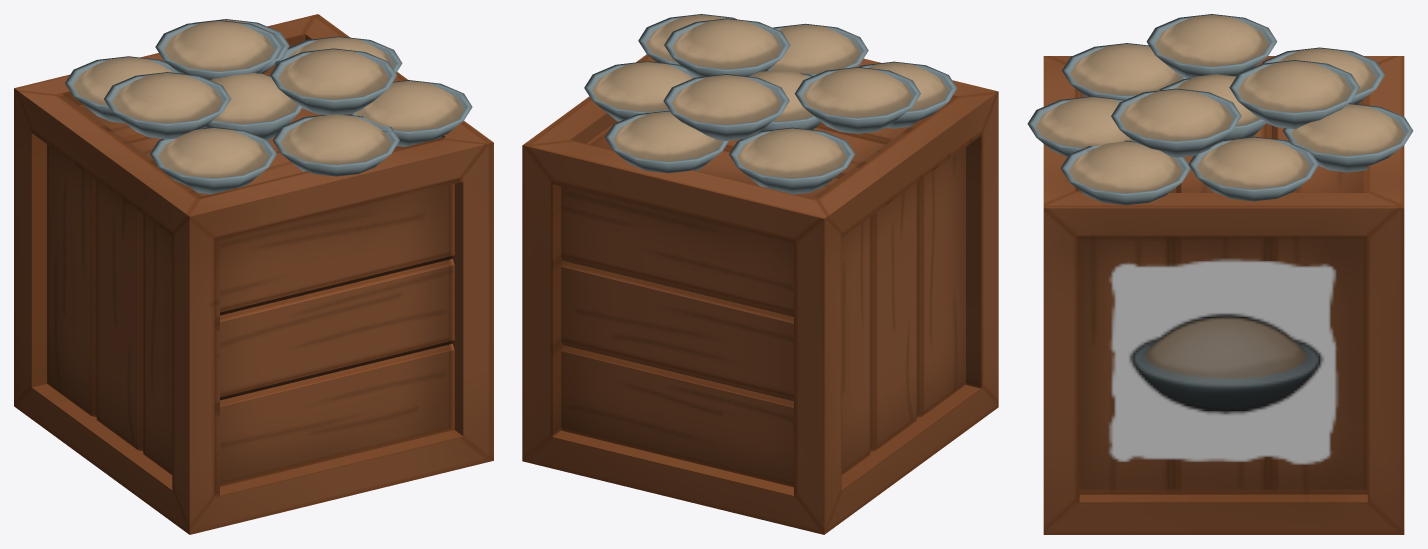
Rendered from caixa gengibre moido.fbx.
3 views of the same model, side by side, from view 1: azimuth 30°, elevation 25°; view 2: azimuth 150°, elevation 25°; view 3: azimuth 270°, elevation 25° (orthographic). The views are drawn at different scales.
Visible parts, largest first — view 1: Caixas.010; view 2: Caixas.010; view 3: Caixas.010.
Boxes of the visible parts, x1,y1,x2,y2 form: Caixas.010: (14, 14, 493, 534); Caixas.010: (522, 14, 998, 534); Caixas.010: (1027, 14, 1413, 534).
Bounding box in the file's own units: 207 × 237 × 214.
2 materials, 2 textured.
